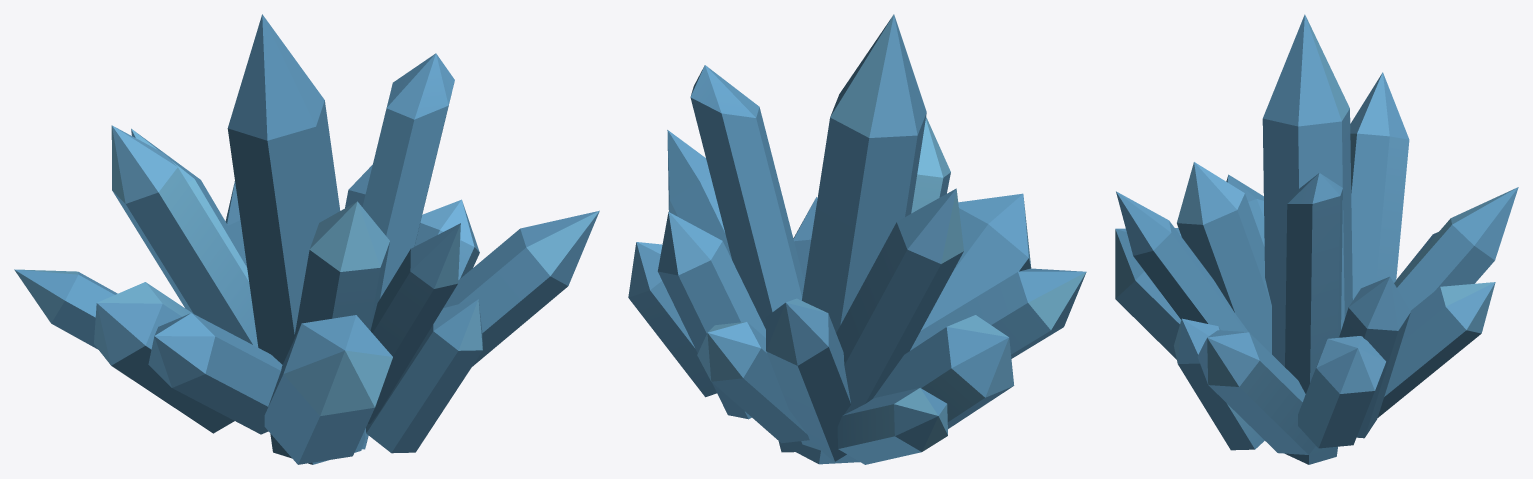
File: geology-crystals-icecrystalcluster_v1.fbx
3 renders of one model, left to right at view 1: azimuth 30°, elevation 25°; view 2: azimuth 150°, elevation 25°; view 3: azimuth 270°, elevation 25°, orthographic. The views are drawn at different scales.
Parts seen in each view (by area): view 1: IceCrystalCluster_v1; view 2: IceCrystalCluster_v1; view 3: IceCrystalCluster_v1.
Part boxes in pixels (<box>): IceCrystalCluster_v1: <box>14,14,599,464</box>; IceCrystalCluster_v1: <box>628,14,1086,464</box>; IceCrystalCluster_v1: <box>1115,14,1518,464</box>.
Size of the model in its own units: 9.43 by 9.43 by 8.53.
